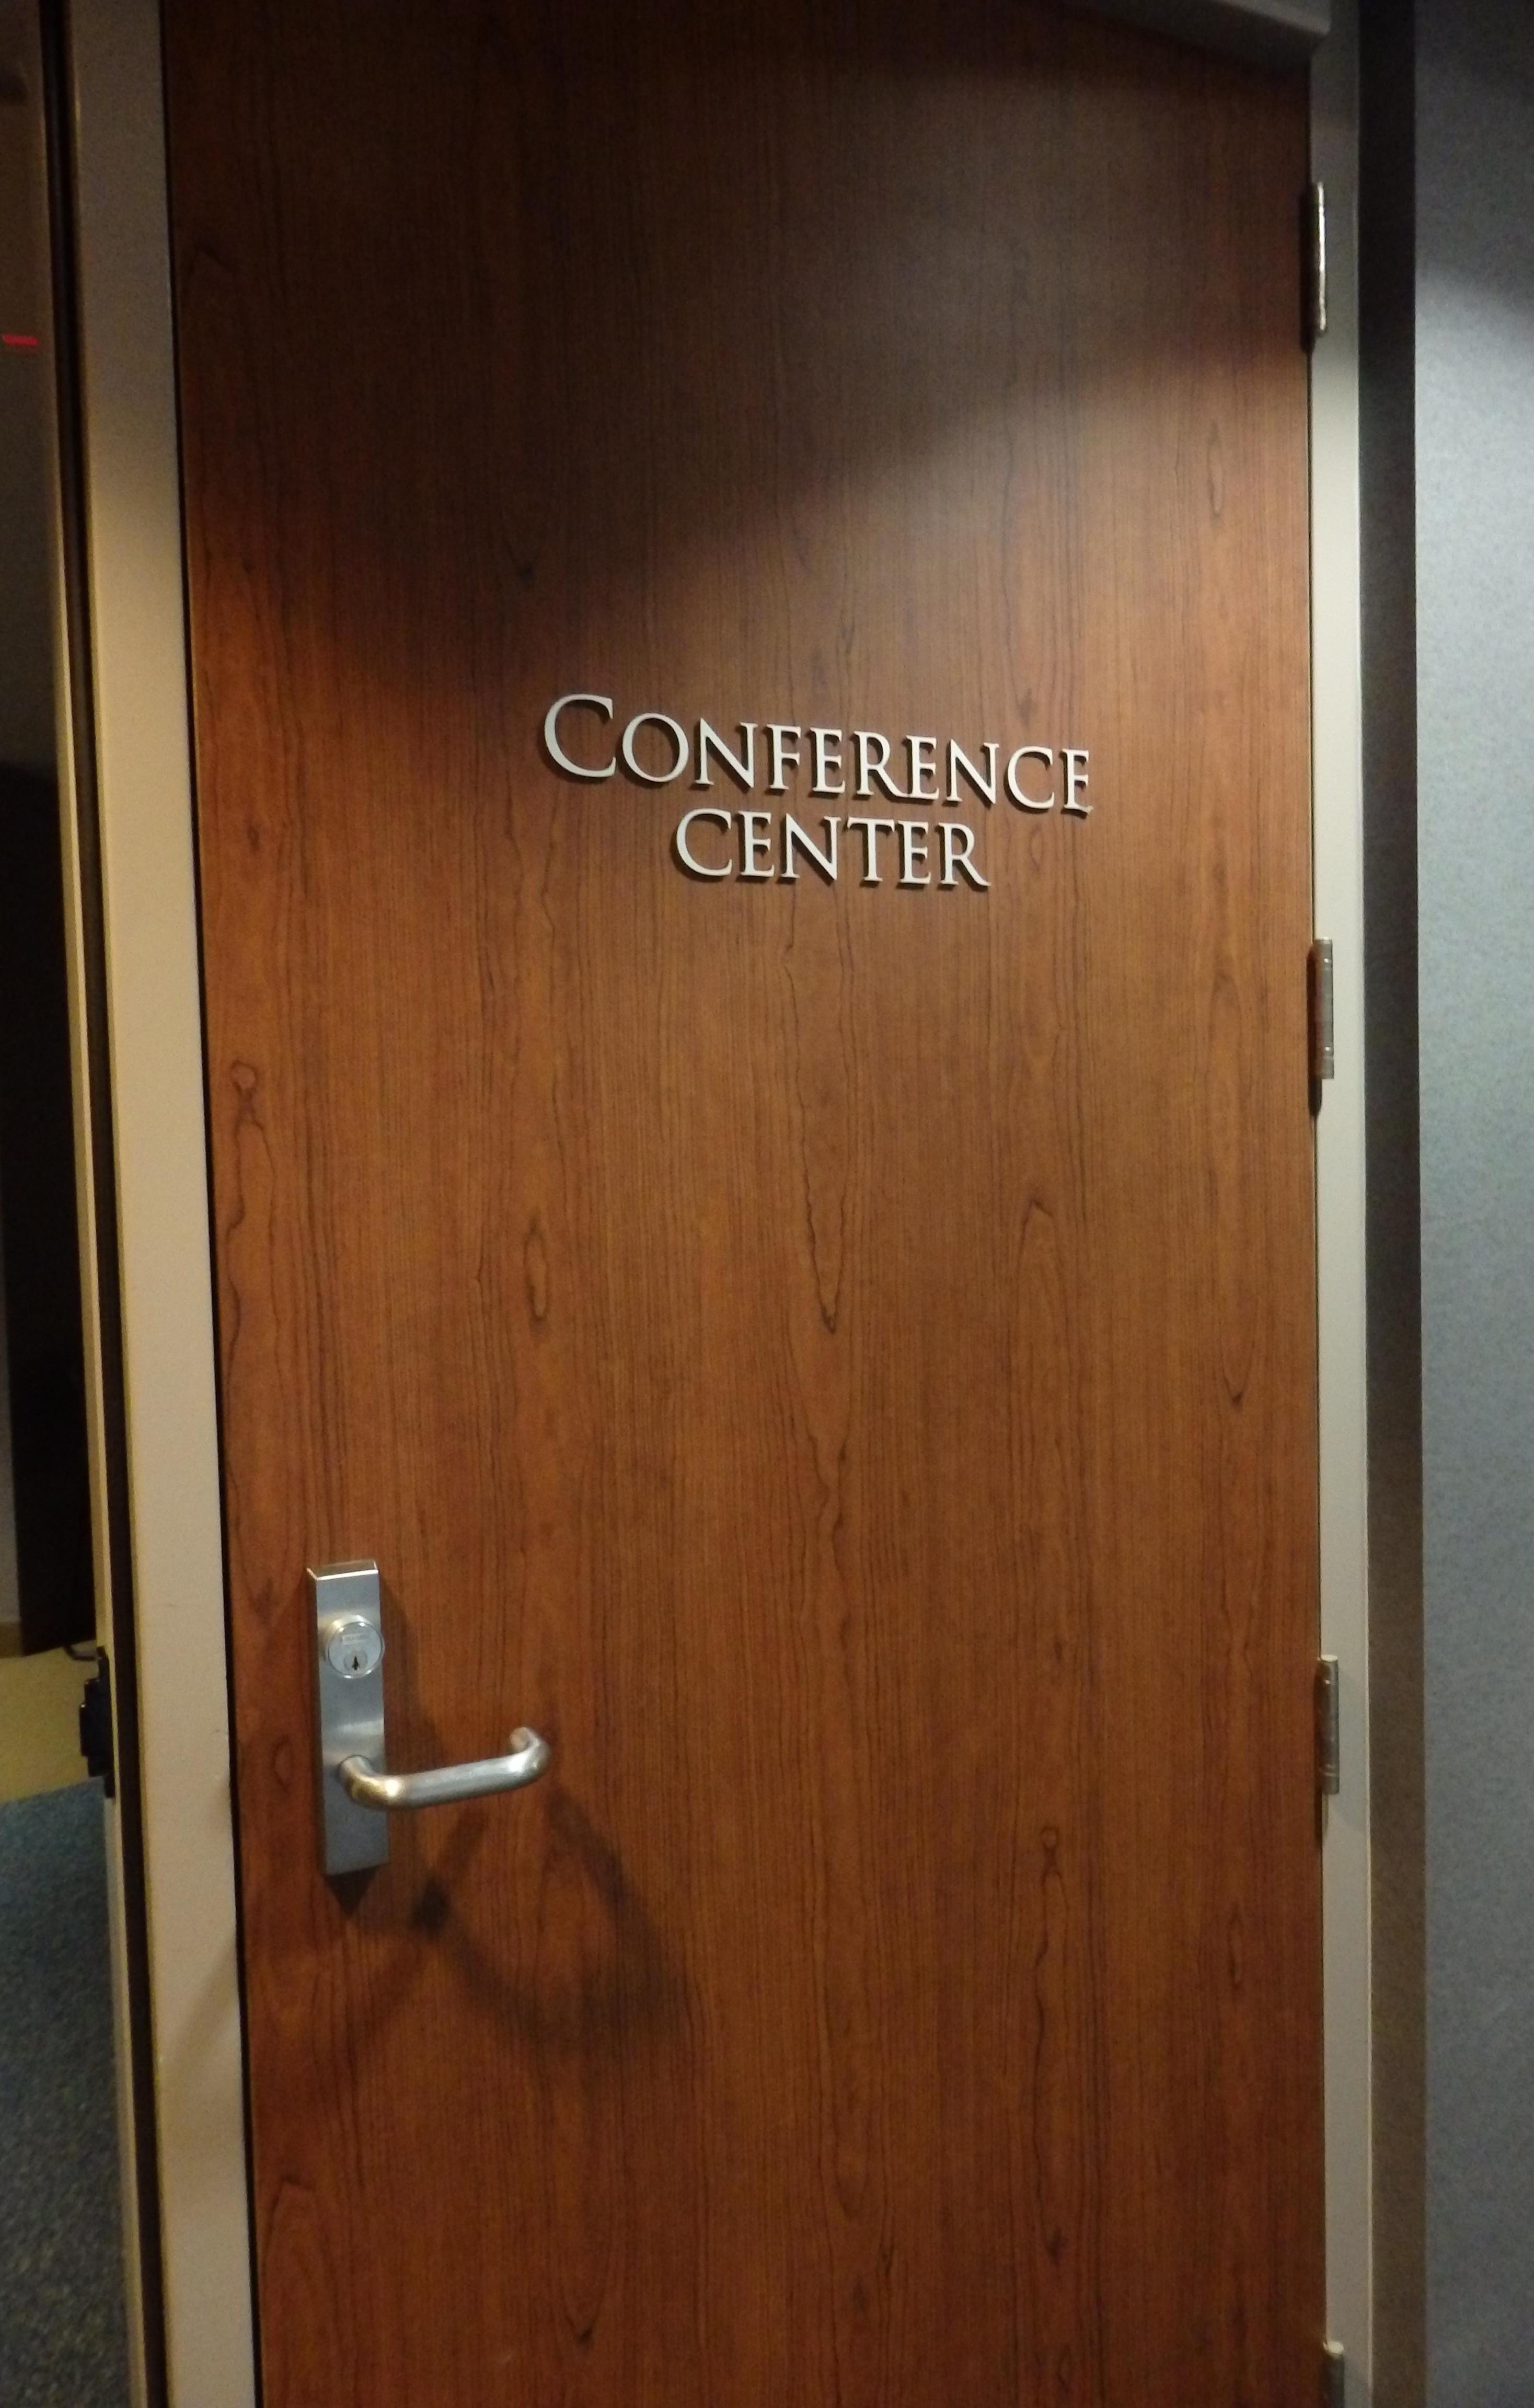door: (121, 11, 1418, 2385)
